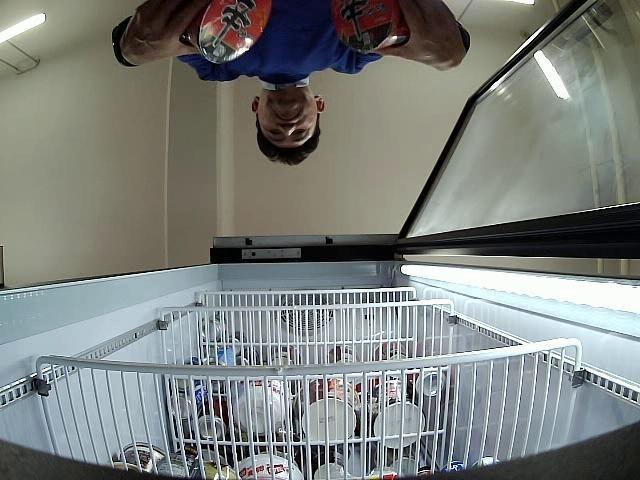01_ShinRamen_L: (182, 0, 270, 64), (334, 0, 409, 55)
